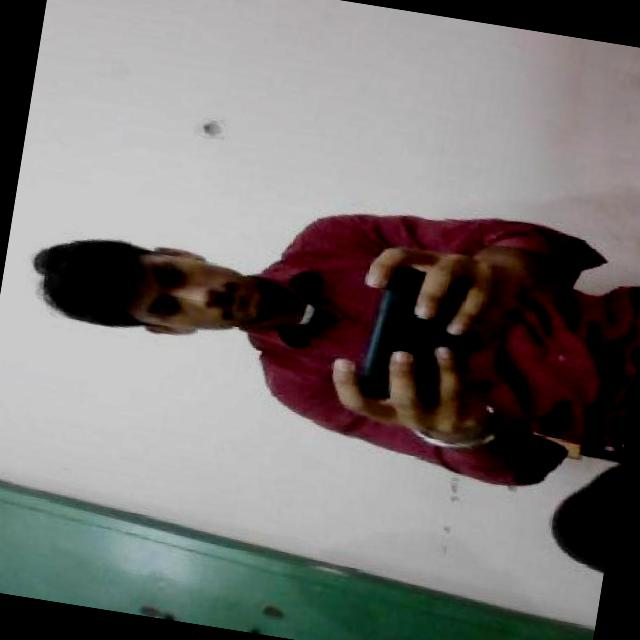phone: (360, 262, 483, 409)
